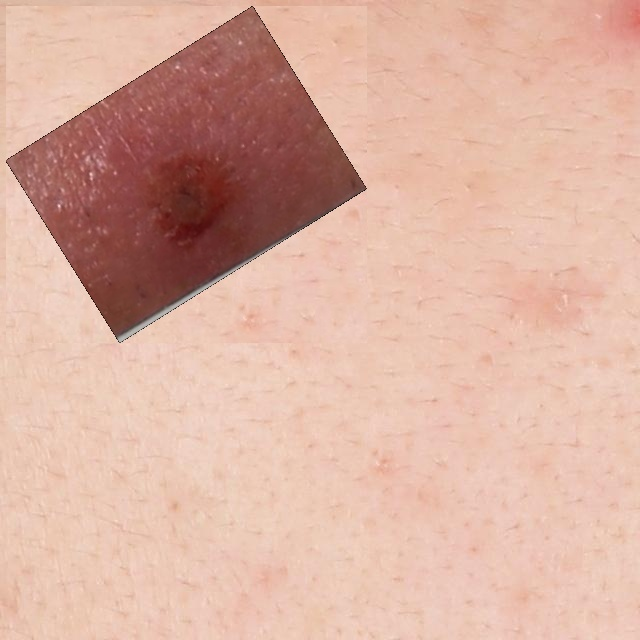nodule: (17, 17, 356, 332)
